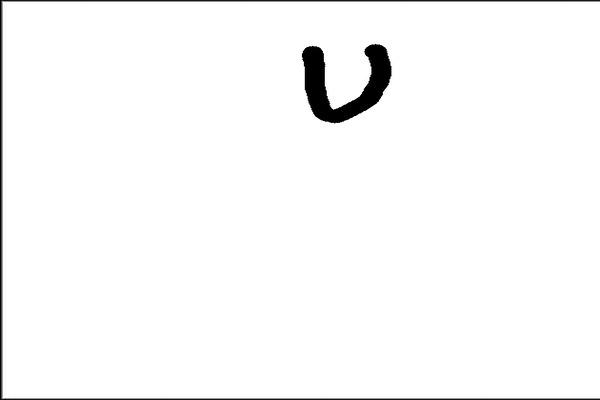U: (289, 26, 392, 127)
